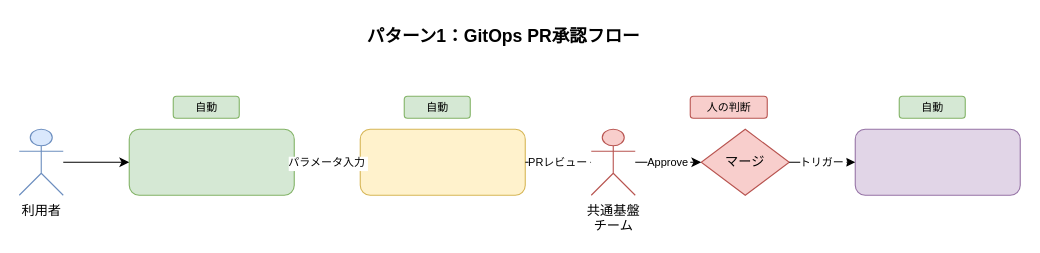
Some shapes in this 1040 by 253 pixel diagram are drawn without their labels. Here are the shapes that lost their labels. From the top down, the centre of each, then its label:
(211,161): RHDH Software Template
(442,161): Git Repository (PR作成)
(937,161): HCP Terraform / ArgoCD 自動実行
